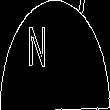N_S: (45, 30, 65, 80)
